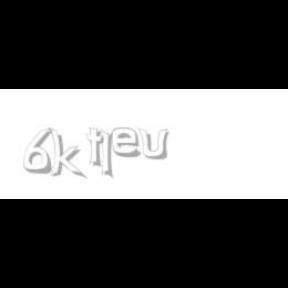6: (24, 128, 53, 176)
I: (101, 128, 114, 180)
e: (111, 128, 144, 158)
k: (49, 128, 87, 180)
t: (86, 128, 108, 168)
u: (138, 128, 172, 160)
